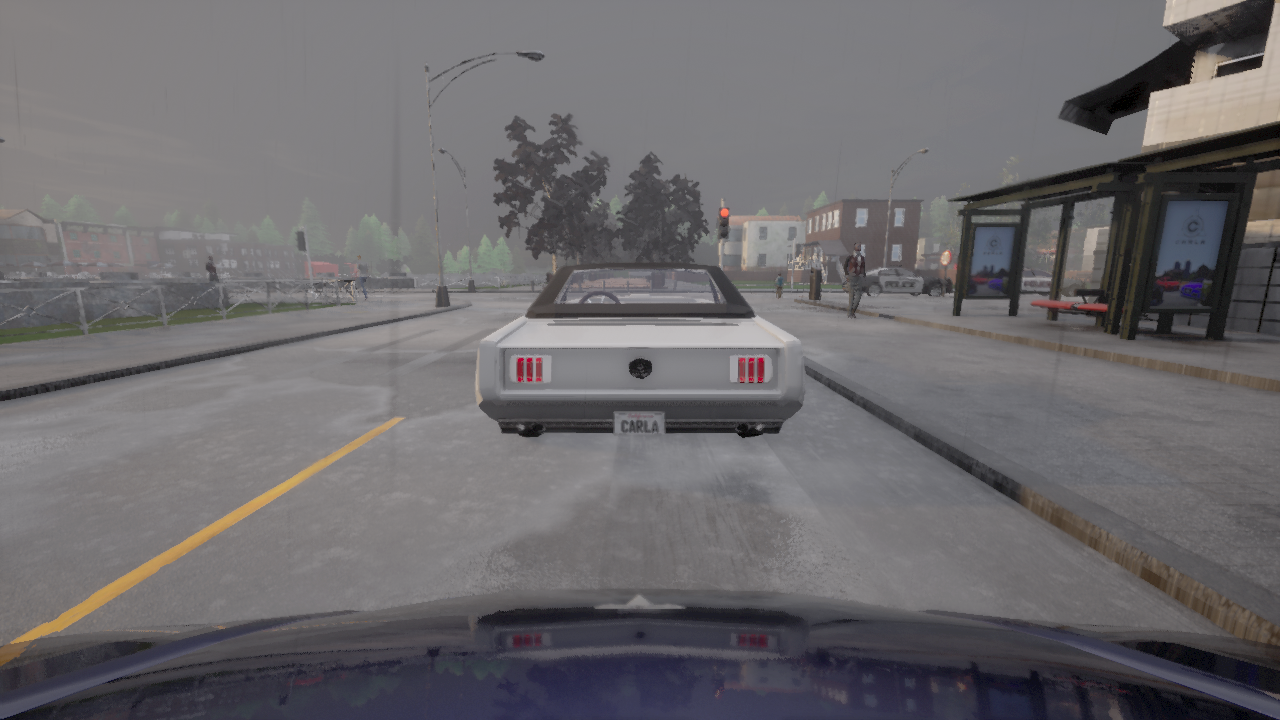cyclist: (0, 588, 1279, 719), (475, 262, 805, 436), (841, 264, 951, 296), (1020, 266, 1052, 296)
pedestrian: (842, 241, 866, 319), (354, 255, 369, 301), (204, 255, 219, 281), (775, 272, 783, 299), (897, 263, 899, 264)
